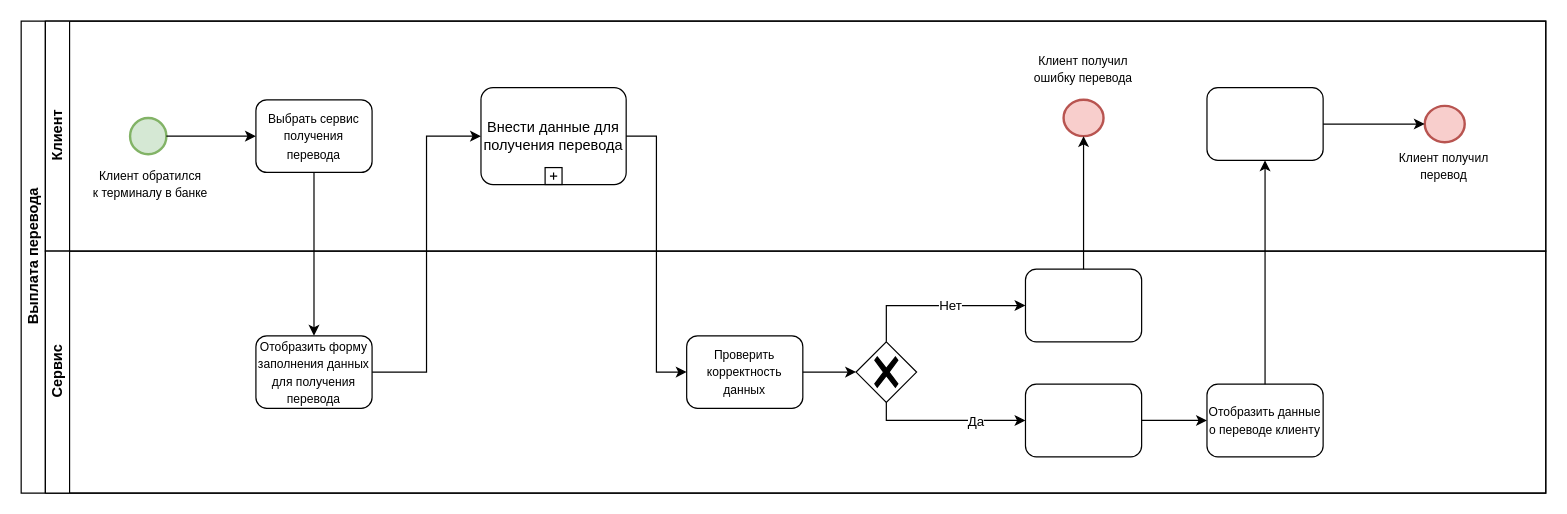
Some shapes in this 1567 by 514 pixel diagram are drawn without their labels. The centre of each missing label's shape, as x and y in pixels:
"Данные корректны?" belongs at point 886,371.
"Получить перевод" belongs at point 1264,123.
"Создать перевод в системе" belongs at point 1083,420.
"Сообщить об ошибке" belongs at point 1083,305.
